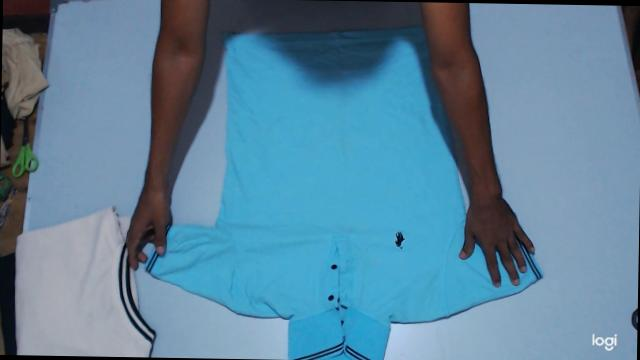new-garment: (146, 27, 542, 360)
